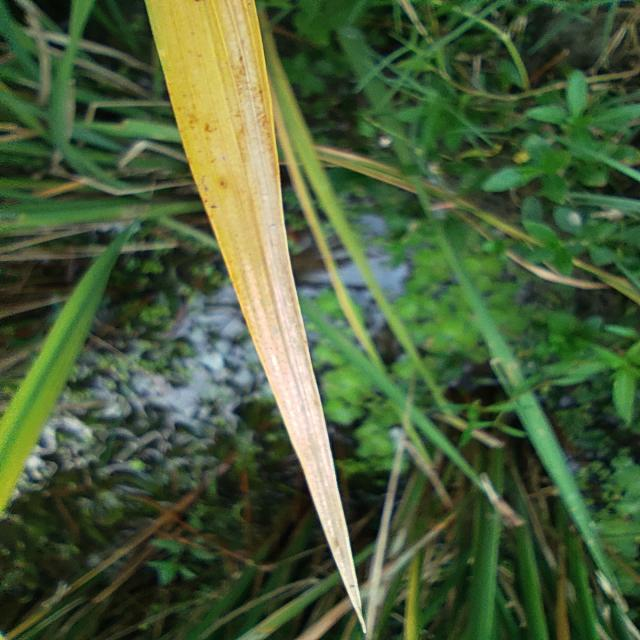Bacterial_Leaf_Blight: (216, 0, 362, 631)
